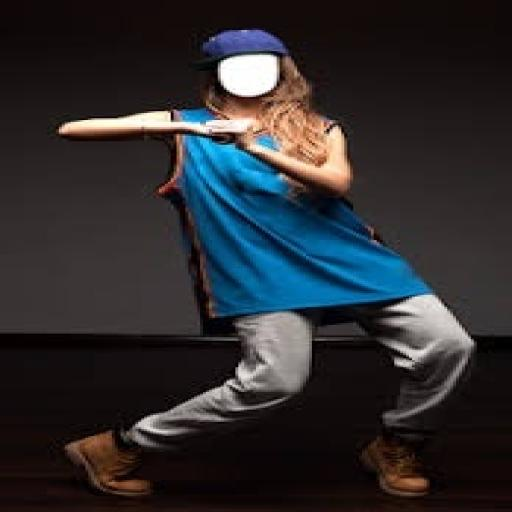dancing: (53, 26, 480, 502)
